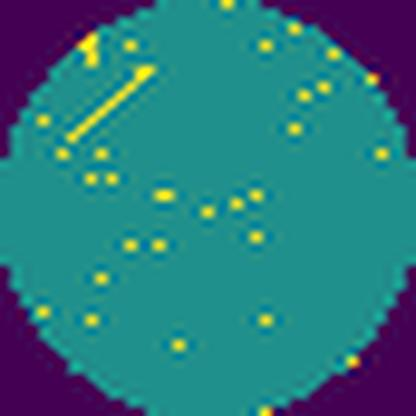Scratch: (59, 59, 162, 152)
